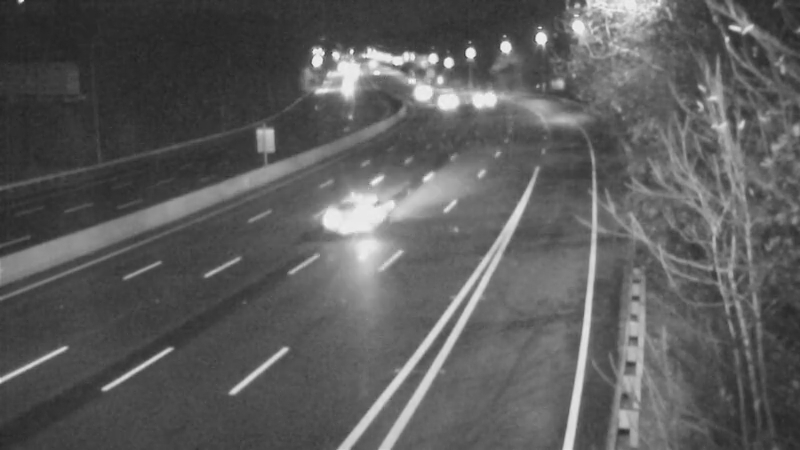vehicle: (307, 173, 387, 253), (393, 67, 443, 117), (452, 70, 502, 120), (417, 79, 467, 129)
